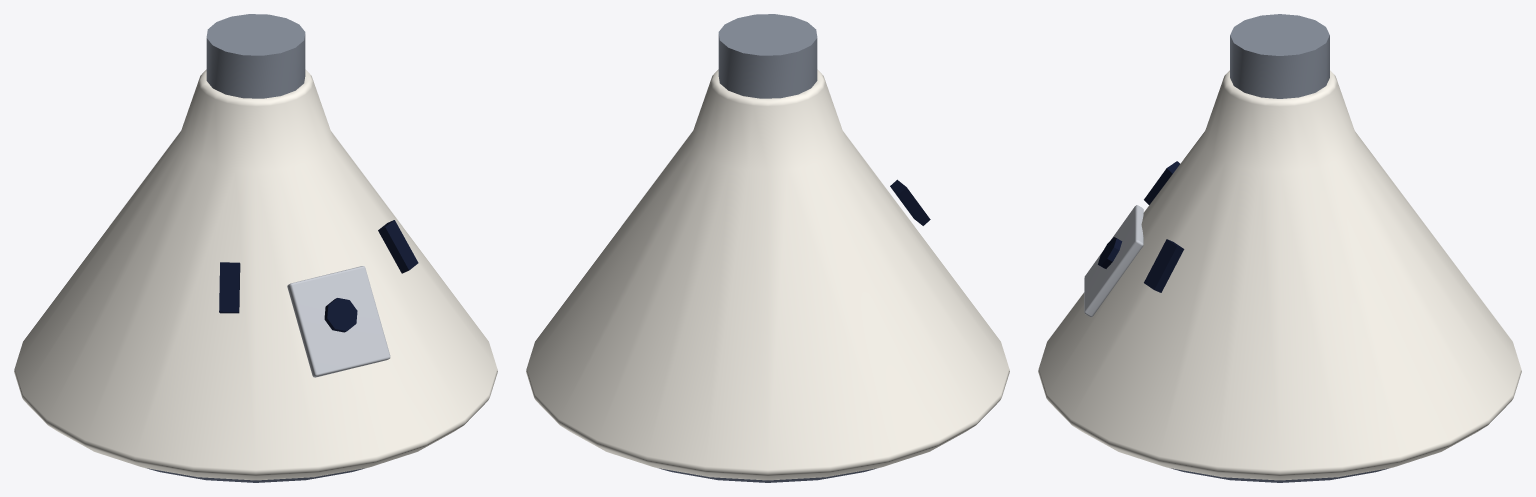
The model's file is Ship_CM.fbx.
3 renders of one model, left to right at view 1: azimuth 30°, elevation 25°; view 2: azimuth 150°, elevation 25°; view 3: azimuth 270°, elevation 25°, orthographic.
Visible parts, largest first — view 1: Ship_CM.Cone, Ship_CM.DockRing, Ship_CM.Hatch, Ship_CM.Window0, Ship_CM.Window1, Ship_CM.HatchWindow, Ship_CM.HeatShield; view 2: Ship_CM.Cone, Ship_CM.DockRing, Ship_CM.Window0, Ship_CM.HeatShield; view 3: Ship_CM.Cone, Ship_CM.DockRing, Ship_CM.Hatch, Ship_CM.Window1, Ship_CM.HeatShield.
Boxes of the visible parts, x1,y1,x2,y2 form: Ship_CM.Cone: [14, 69, 497, 480]; Ship_CM.DockRing: [206, 14, 305, 98]; Ship_CM.Hatch: [287, 266, 390, 377]; Ship_CM.Window0: [219, 262, 240, 313]; Ship_CM.Window1: [378, 220, 418, 273]; Ship_CM.HatchWindow: [324, 298, 357, 332]; Ship_CM.HeatShield: [147, 468, 364, 482]; Ship_CM.Cone: [526, 69, 1009, 480]; Ship_CM.DockRing: [718, 14, 817, 98]; Ship_CM.Window0: [890, 179, 930, 225]; Ship_CM.HeatShield: [659, 468, 876, 482]; Ship_CM.Cone: [1038, 70, 1521, 480]; Ship_CM.DockRing: [1230, 14, 1329, 98]; Ship_CM.Hatch: [1084, 205, 1143, 317]; Ship_CM.Window1: [1144, 239, 1184, 292]; Ship_CM.HeatShield: [1171, 468, 1388, 482].
Size of the model in its own units: 3.88 by 3.45 by 3.88.
Materials: 1 (1 with a texture image).
